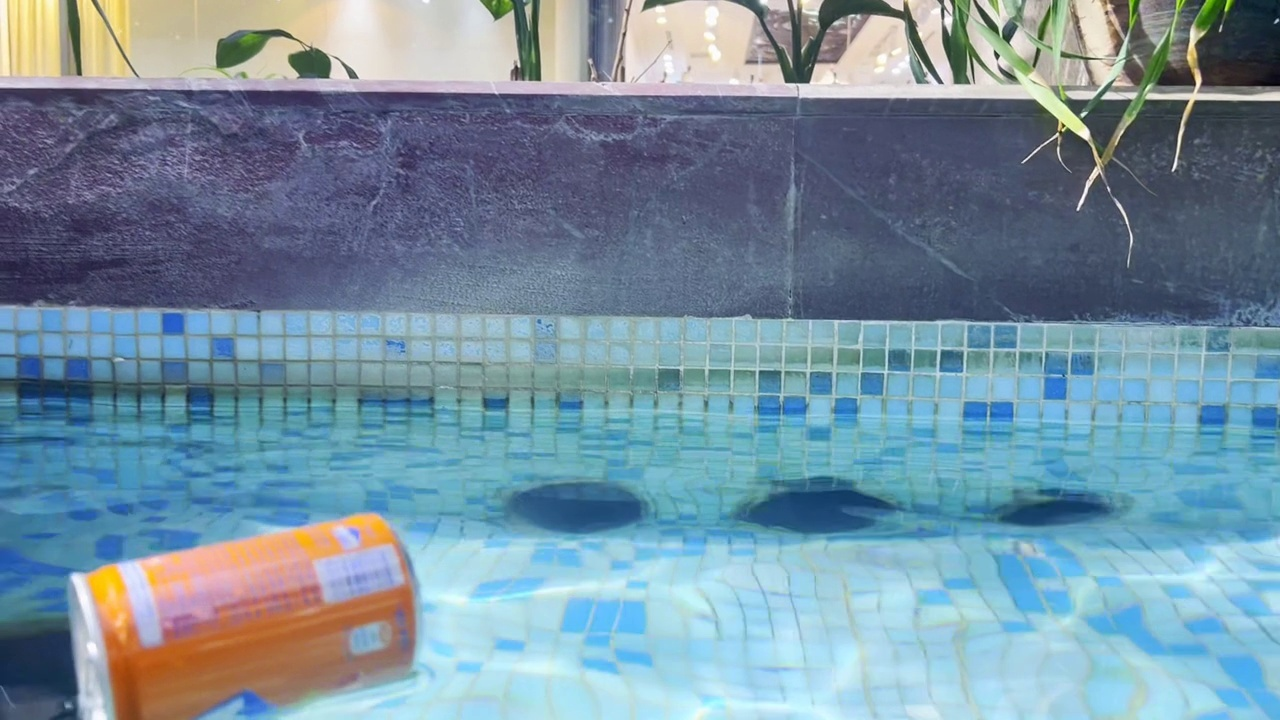debris: (59, 497, 428, 720)
